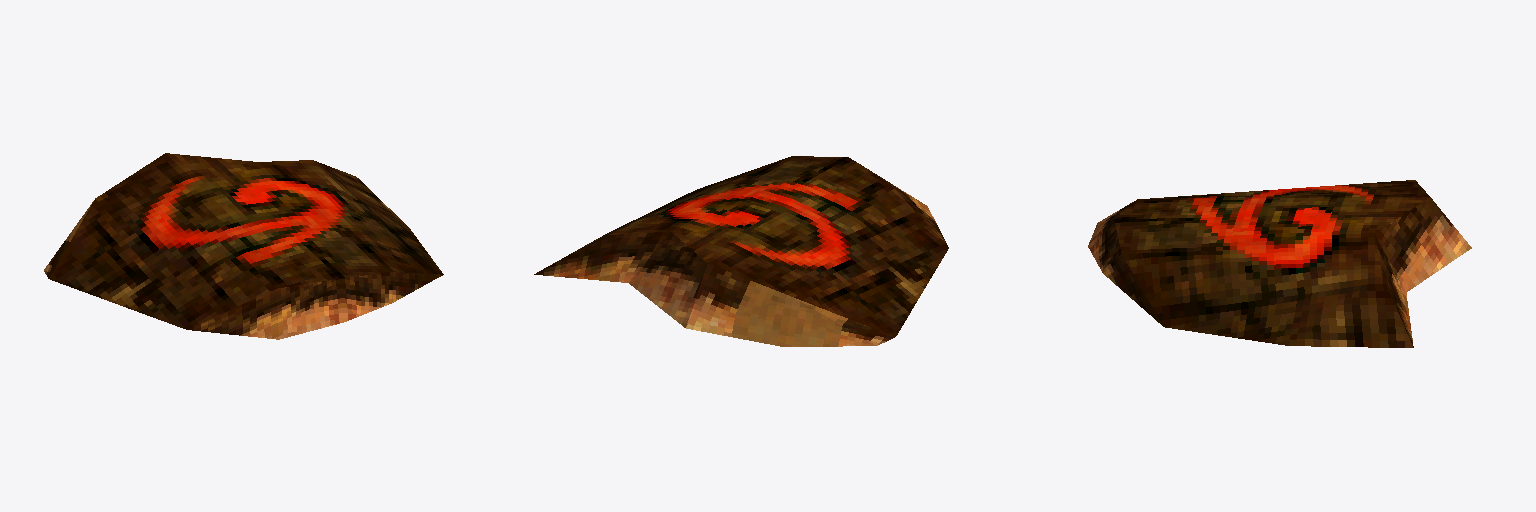
The picture shows the model from 3 angles: view 1: azimuth 30°, elevation 25°; view 2: azimuth 150°, elevation 25°; view 3: azimuth 270°, elevation 25°; orthographic projection.
Visible parts, largest first — view 1: nodes_2__meshes[0]; view 2: nodes_2__meshes[0]; view 3: nodes_2__meshes[0].
Part boxes in pixels (x1,y1,x2,y2): nodes_2__meshes[0]: (44, 153, 443, 339); nodes_2__meshes[0]: (534, 156, 948, 346); nodes_2__meshes[0]: (1088, 180, 1471, 347).
Bounding box in the file's own units: 1891 × 555 × 1878.
Materials: 1 (1 with a texture image).